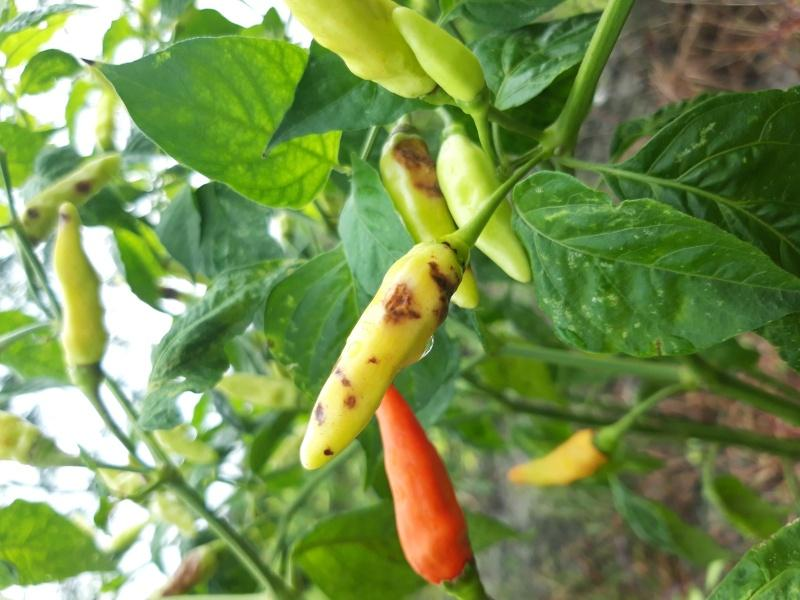antraknosa: (297, 236, 465, 472), (381, 131, 478, 309), (20, 153, 122, 239), (56, 203, 109, 365)
cabai_normal: (372, 380, 473, 590), (436, 128, 535, 283), (386, 4, 503, 115), (507, 428, 609, 486), (214, 369, 297, 411)
